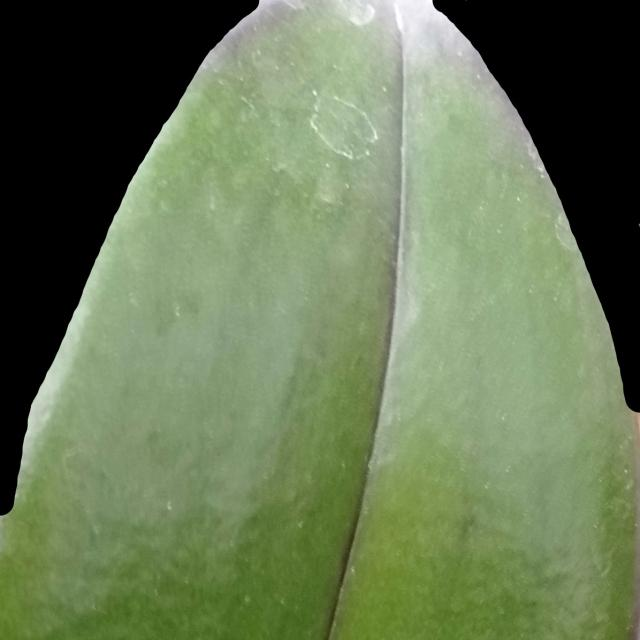mite: (261, 77, 380, 211), (270, 160, 286, 176), (241, 592, 252, 606), (494, 222, 505, 235), (514, 192, 524, 204), (277, 595, 287, 607), (621, 464, 630, 476)
spots: (3, 2, 635, 637)
